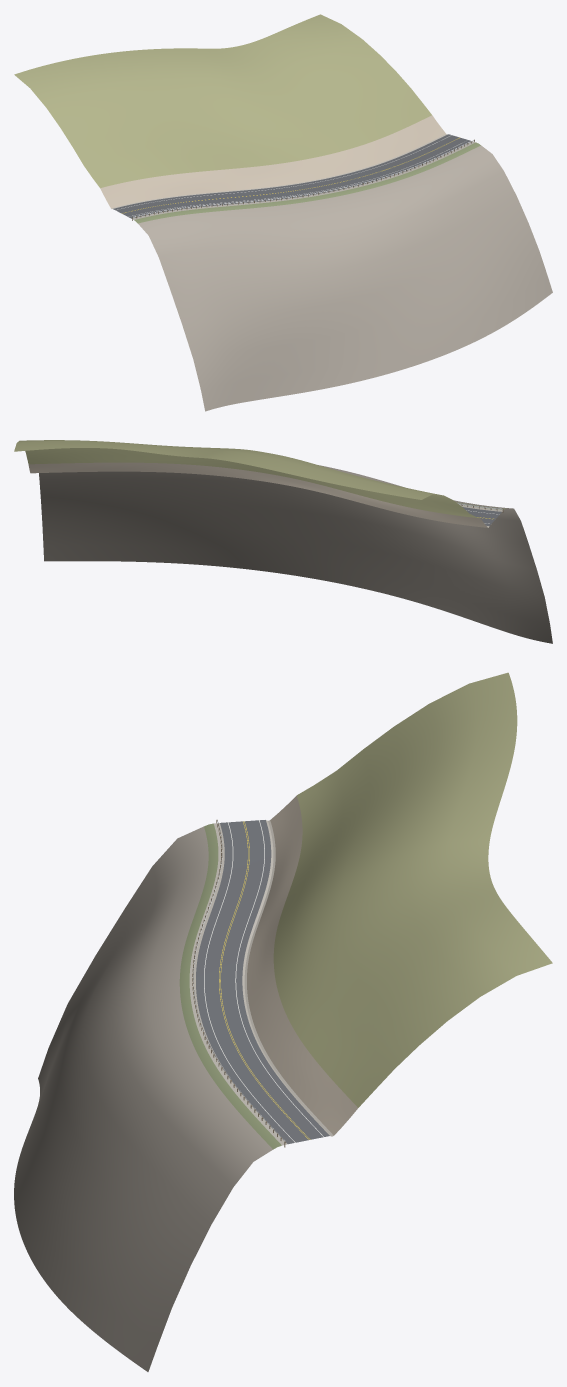
The picture shows the model from 3 angles, top to bottom: view 1: azimuth 30°, elevation 25°; view 2: azimuth 150°, elevation 25°; view 3: azimuth 270°, elevation 25°; orthographic projection. The views are drawn at different scales.
Parts seen in each view (by area): view 1: Cliff, Hillside, RoadCut, Asphalt, Verge, Gravel; view 2: Cliff, Hillside, RoadCut, Asphalt; view 3: Cliff, Hillside, Asphalt, RoadCut, Gravel, Verge, EdgeLines.
Boxes of the visible parts, x1,y1,x2,y2 form: Cliff: (138,145,552,411); Hillside: (14,14,431,188); RoadCut: (100,115,445,208); Asphalt: (113,134,470,218); Verge: (134,142,480,223); Gravel: (111,134,475,219); Cliff: (39,465,552,643); Hillside: (14,440,479,518); RoadCut: (28,462,487,527); Asphalt: (463,507,501,525); Cliff: (14,826,272,1371); Hillside: (273,672,552,1107); Asphalt: (196,820,329,1144); RoadCut: (247,796,357,1135); Gravel: (189,820,333,1145); Verge: (179,823,281,1149); EdgeLines: (204,820,323,1142).
Size of the model in its own units: 172 by 92.27 by 120.
